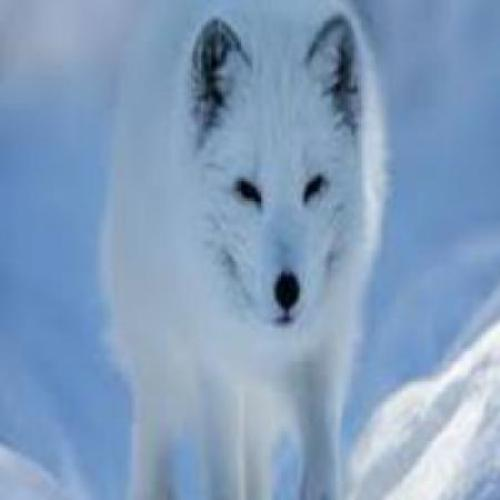arctic_fox-endangered: (101, 0, 392, 494)
